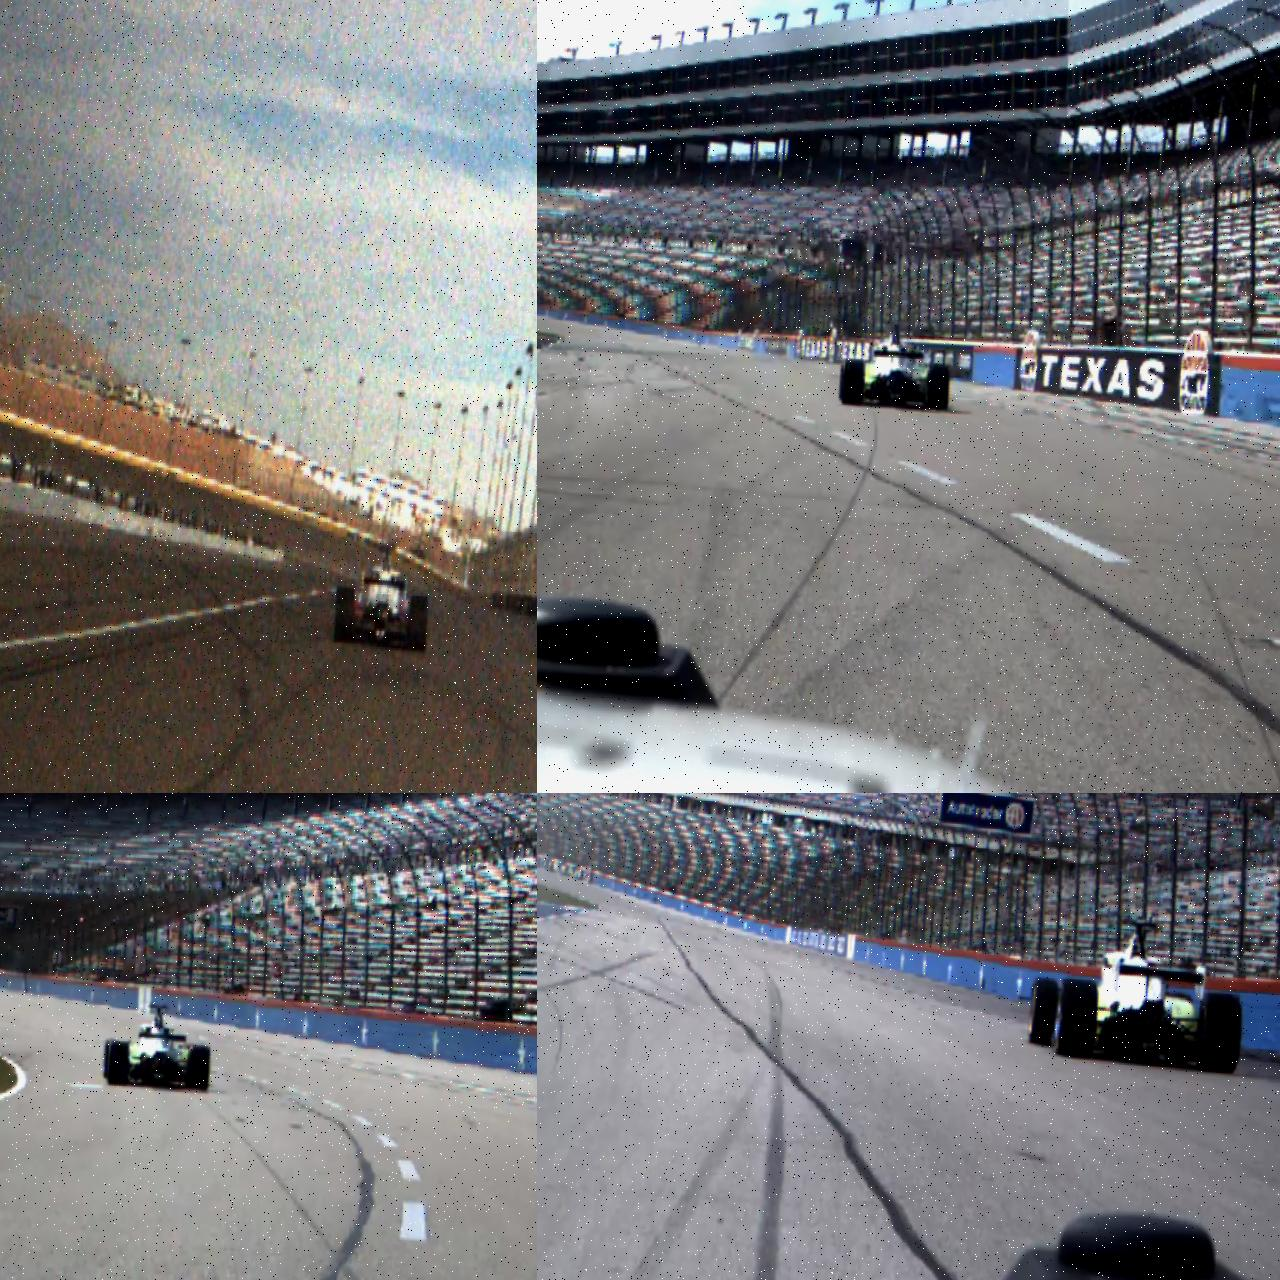AV: (1027, 913, 1248, 1076), (333, 540, 431, 653), (837, 322, 953, 411), (101, 1001, 213, 1092)
Wheel: (1197, 992, 1242, 1075), (1055, 978, 1098, 1060), (1028, 978, 1058, 1046), (408, 594, 429, 652), (840, 358, 865, 406), (188, 1043, 211, 1092), (334, 586, 354, 644), (927, 362, 949, 410), (107, 1040, 129, 1087)
